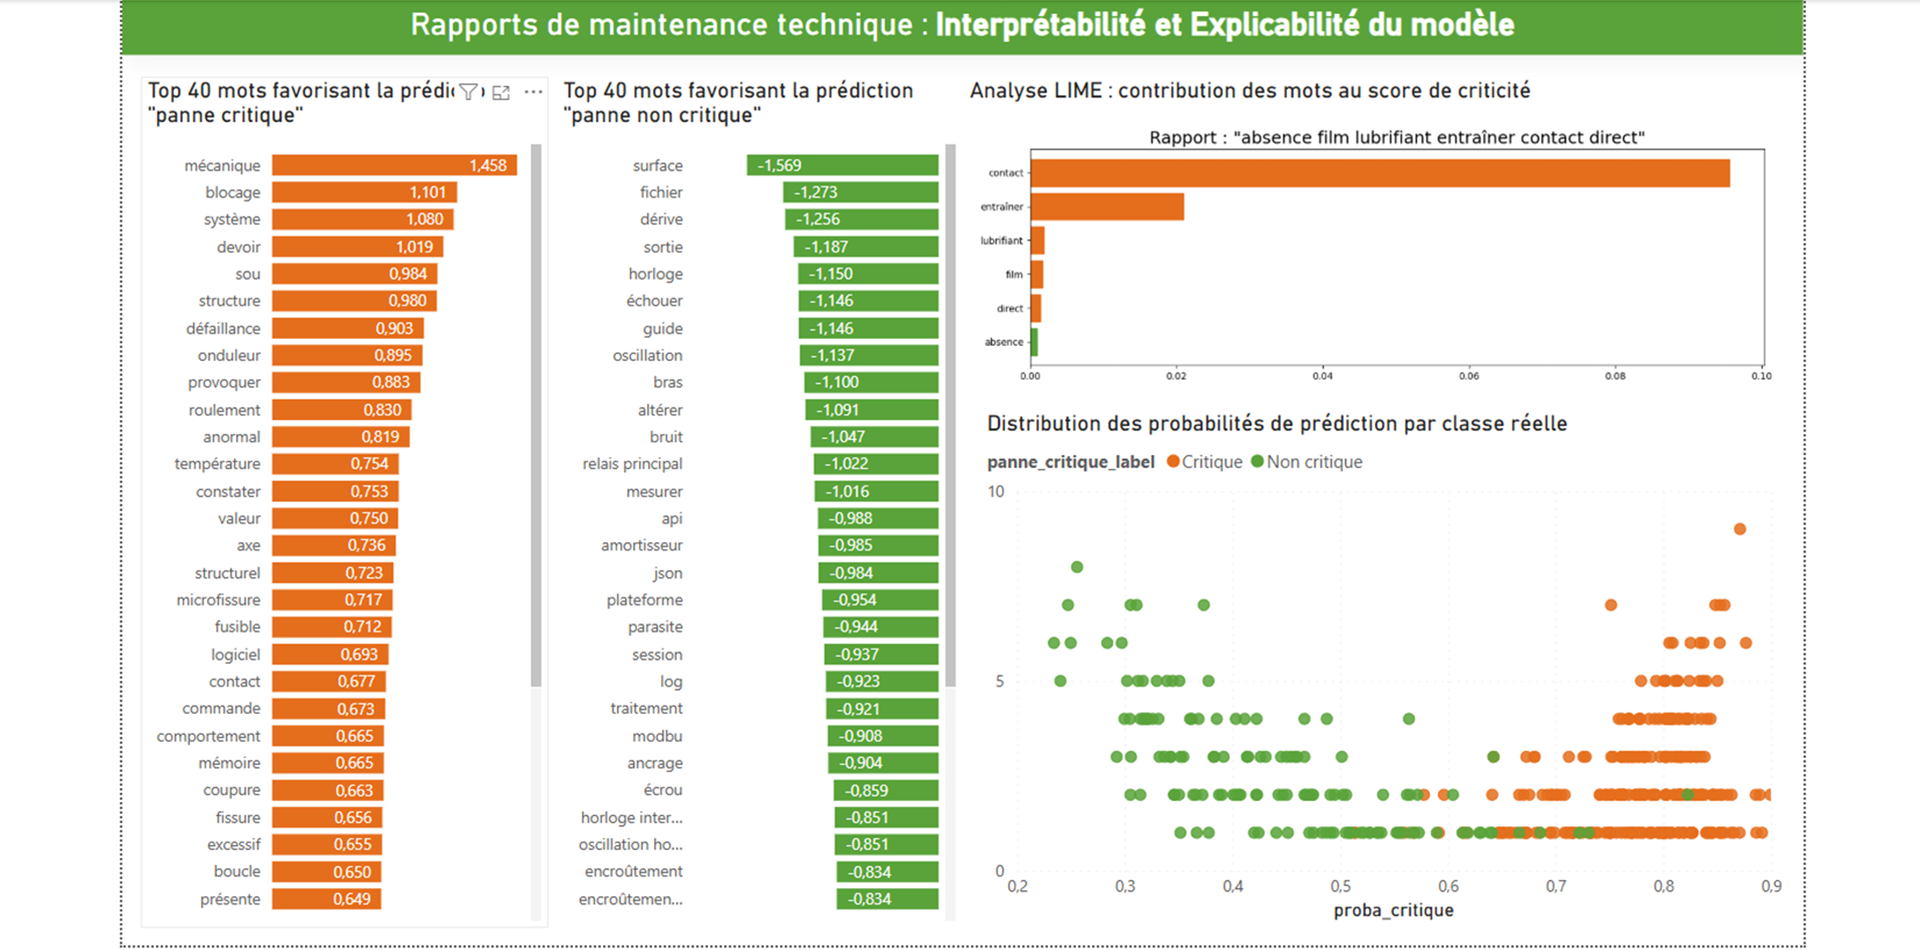

The page's visual inventory and layout, read from the dashboard file:
{"tool":"powerbi","page":{"name":"Interprétabilité et Explicabilité","canvas":[1280,720],"ordinal":2},"visuals":[{"type":"textbox","box":[0,0,1280,41.8],"z":0},{"type":"barChart","title":"Top 40 mots favorisant la prédiction \"panne critique\"","fields":{"Category":["powerbi_explainability_coefficients.mot"],"Y":["Sum(powerbi_explainability_coefficients.coefficient)"]},"box":[14.5,58.2,310,648.2],"z":1000},{"type":"barChart","title":"Top 40 mots favorisant la prédiction \"panne non critique\"","fields":{"Category":["powerbi_explainability_coefficients.mot"],"Y":["Sum(powerbi_explainability_coefficients.coefficient)"]},"box":[330.9,58.2,309.1,648.2],"z":2000},{"type":"scatterChart","title":"Distribution des probabilités de prédiction par classe réelle","fields":{"X":["powerbi_dataset_predictions.proba_critique"],"Y":["CountNonNull(powerbi_dataset_predictions.predicted_class)"],"Series":["powerbi_dataset_predictions.panne_critique_label"]},"box":[653.5,312.1,615.4,394.6],"z":3000},{"type":"pythonVisual","title":"Analyse LIME : contribution des mots au score de criticité","fields":{"Values":["powerbi_dataset_predictions.rapport_clean"]},"box":[640,58.2,629.1,253.6],"z":4000}]}

Visuals, with their boxes on the page's 1280x720 design canvas (x1, y1, x2, y2). These are canvas units, not pixel positions in the 1920x950 screenshot, which may show the page scaled, cropped or inside an application window:
textbox: 0, 0, 1280, 42
"Top 40 mots favorisant la prédiction "panne critique"" barChart: 14, 58, 324, 706
"Top 40 mots favorisant la prédiction "panne non critique"" barChart: 331, 58, 640, 706
"Distribution des probabilités de prédiction par classe réelle" scatterChart: 654, 312, 1269, 707
"Analyse LIME : contribution des mots au score de criticité" pythonVisual: 640, 58, 1269, 312
